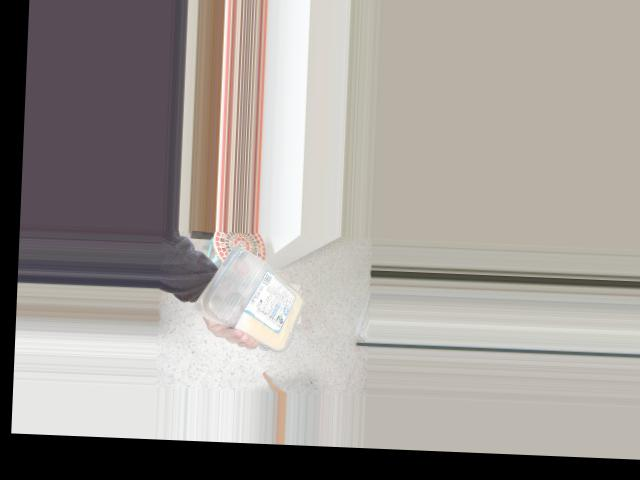cheese: (207, 247, 309, 339)
